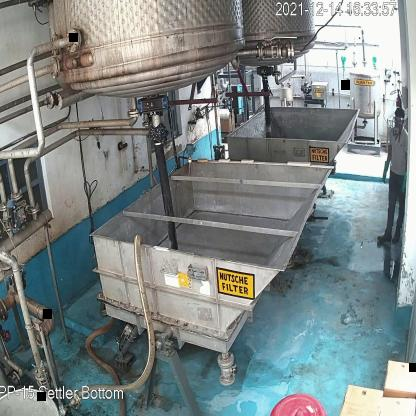shoes: (377, 224, 393, 244), (391, 223, 404, 245)
